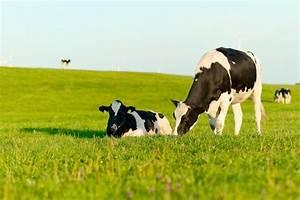cow: (170, 46, 266, 137), (98, 99, 172, 138), (273, 87, 291, 104)
